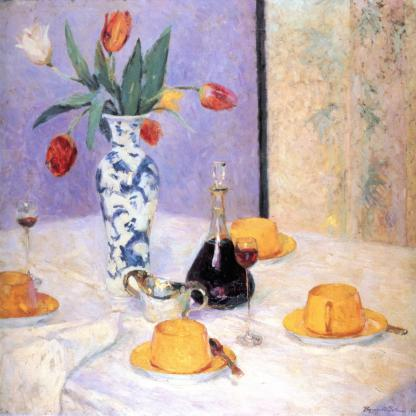vase: (95, 111, 161, 298)
